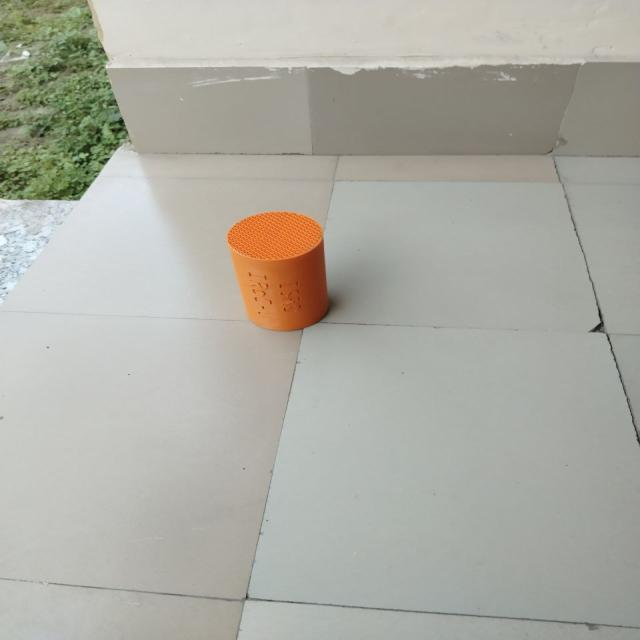Cylinder: (226, 210, 330, 331)
